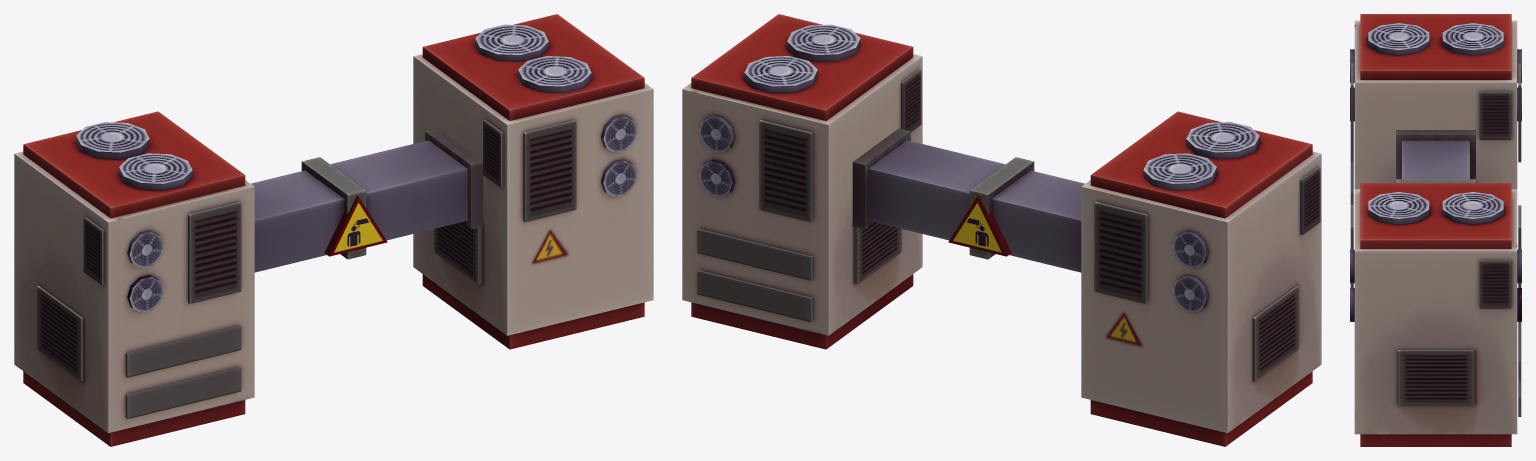
Rendered from Obstacle_AC1_Slide.FBX.
The picture shows the model from 3 angles, left to right: view 1: azimuth 30°, elevation 25°; view 2: azimuth 150°, elevation 25°; view 3: azimuth 270°, elevation 25°; orthographic projection. The views are drawn at different scales.
Parts seen in each view (by area): view 1: Obstacle_AC1_Slide; view 2: Obstacle_AC1_Slide; view 3: Obstacle_AC1_Slide.
Boxes of the visible parts, box(x1,y1,x2,y2) form: Obstacle_AC1_Slide: box(14, 14, 653, 446); Obstacle_AC1_Slide: box(682, 14, 1321, 446); Obstacle_AC1_Slide: box(1350, 14, 1521, 446).
Bounding box in the file's own units: 37.36 × 15.93 × 11.64.
